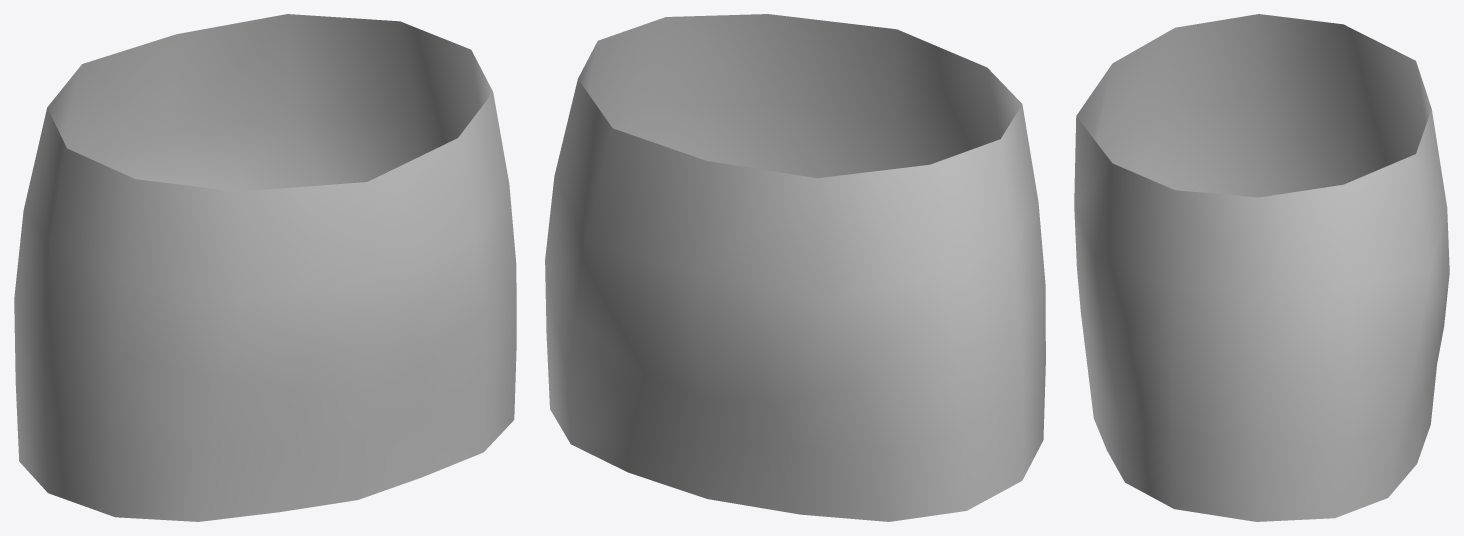
Rendered from Pants_White_003.glb.
3 views of the same model, side by side, from view 1: azimuth 30°, elevation 25°; view 2: azimuth 150°, elevation 25°; view 3: azimuth 270°, elevation 25° (orthographic). The views are drawn at different scales.
Parts seen in each view (by area): view 1: Pants_White_003; view 2: Pants_White_003; view 3: Pants_White_003.
Boxes of the visible parts, x1=… form: Pants_White_003: x1=14, y1=14, x2=516, y2=521; Pants_White_003: x1=545, y1=14, x2=1045, y2=521; Pants_White_003: x1=1074, y1=14, x2=1449, y2=521.
Size of the model in its own units: 0.4681 by 0.3437 by 0.3645.
1 material, 1 textured.
